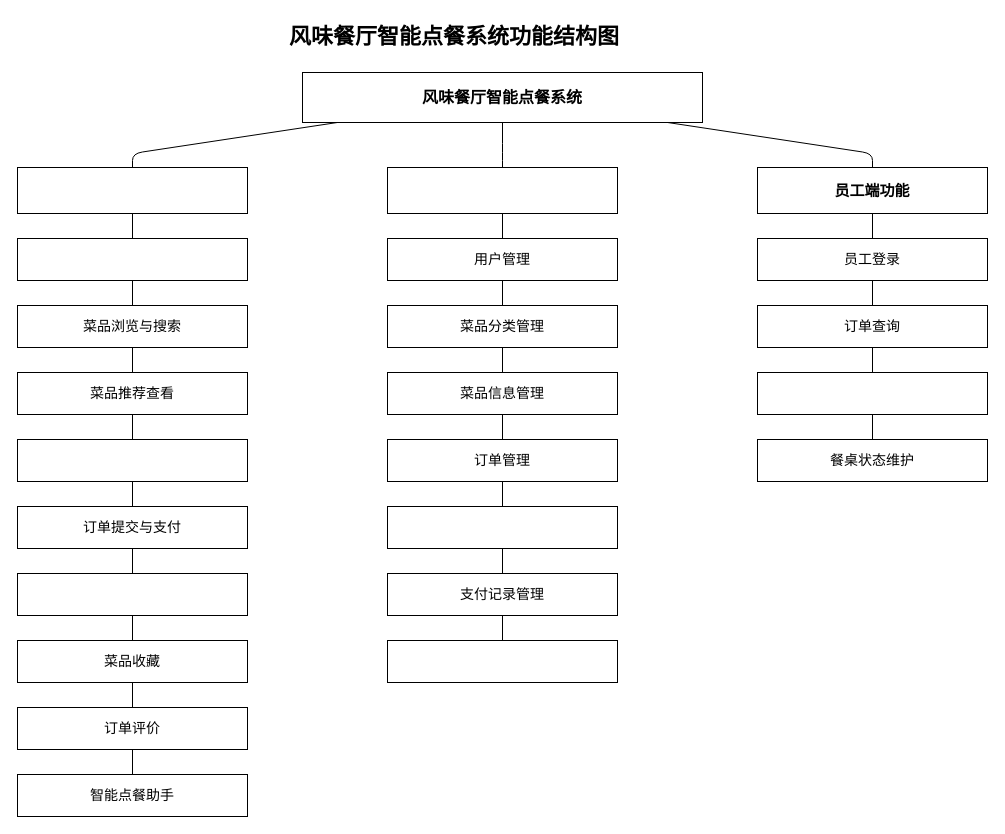
Some shapes in this 1005 by 834 pixel diagram are drawn without their labels. Here are the shapes that lost their labels. From the top down, the box of each, then its label:
(16, 166, 248, 214): 顾客端功能
(386, 166, 618, 214): 管理员端功能
(16, 238, 248, 280): 用户注册与登录
(756, 372, 988, 414): 订单状态更新
(16, 438, 248, 482): 购物车管理
(386, 506, 618, 548): 餐桌管理
(16, 572, 248, 616): 订单状态查看
(386, 640, 618, 682): 经营统计查看
